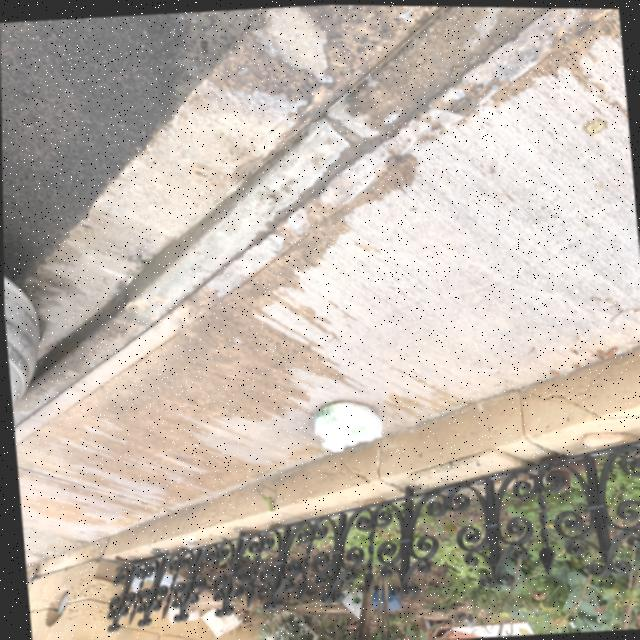Organic Waste -White Bag-: (309, 397, 383, 453)
